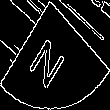N_NE: (32, 23, 78, 87)
